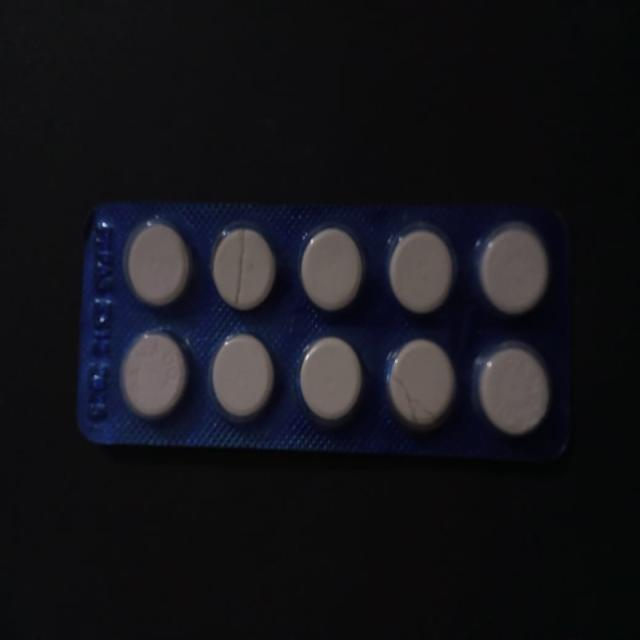defect: (381, 332, 461, 436), (208, 217, 280, 317)
